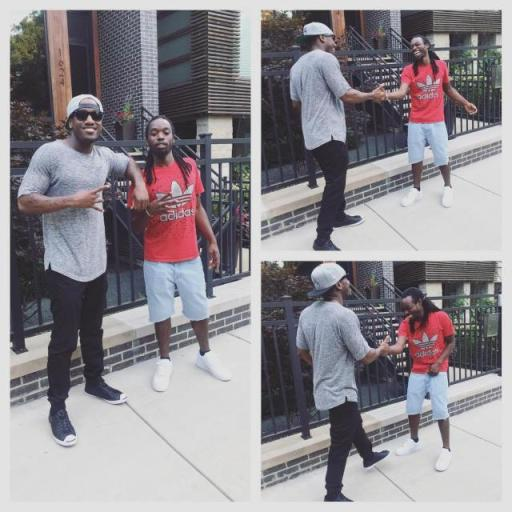Adidas: (154, 179, 196, 223), (408, 326, 446, 362), (414, 70, 444, 102)
